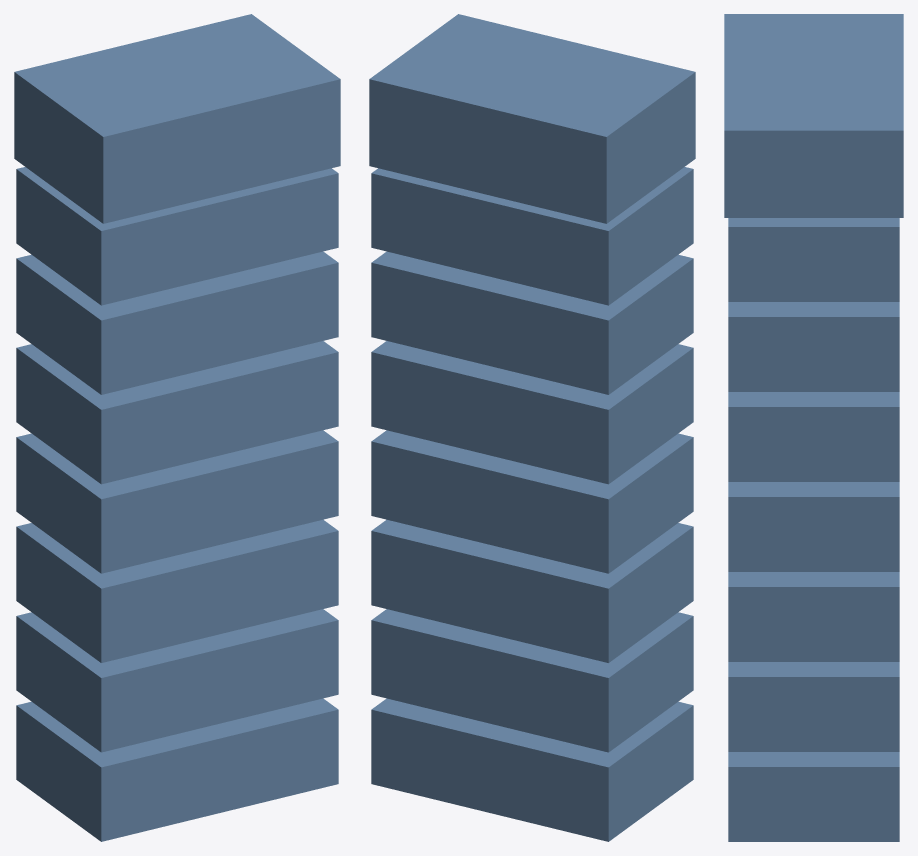
Rendered from linearray8.glb.
3 renders of one model, left to right at view 1: azimuth 30°, elevation 25°; view 2: azimuth 150°, elevation 25°; view 3: azimuth 270°, elevation 25°, orthographic.
Parts seen in each view (by area): view 1: linearray8; view 2: linearray8; view 3: linearray8.
Part boxes in pixels (<box>): linearray8: <box>14,14,340,841</box>; linearray8: <box>369,14,695,841</box>; linearray8: <box>724,14,903,841</box>.
Bounding box in the file's own units: 1 × 2.85 × 0.65.
